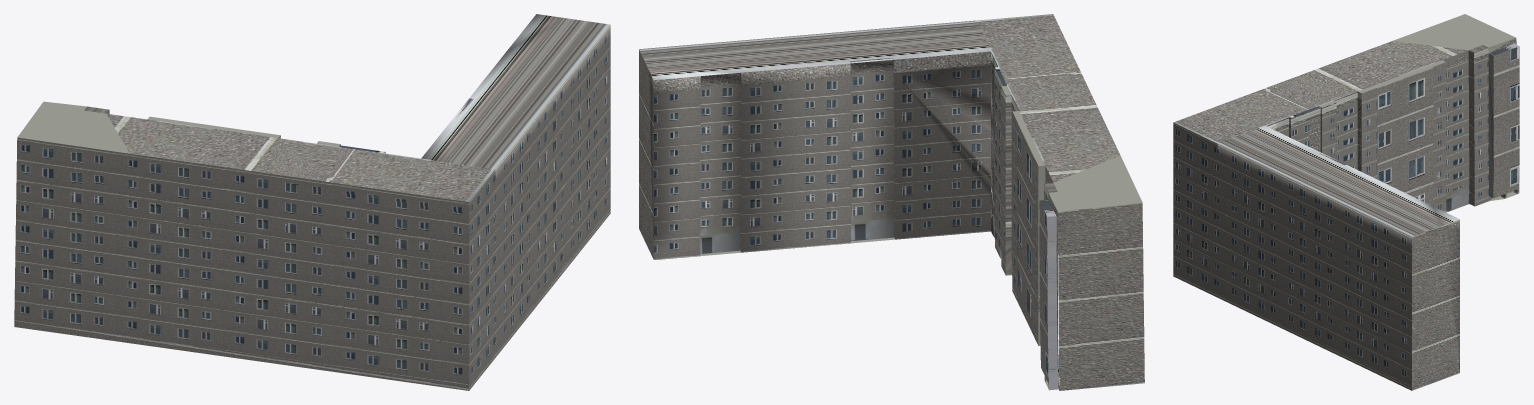
The picture shows the model from 3 angles, left to right: view 1: azimuth 30°, elevation 25°; view 2: azimuth 150°, elevation 25°; view 3: azimuth 270°, elevation 25°; orthographic projection. The views are drawn at different scales.
Visible parts, largest first — view 1: Areas:building_002; view 2: Areas:building_002; view 3: Areas:building_002.
Part boxes in pixels (left/top/right/bottom): Areas:building_002: left=14, top=14, right=610, bottom=390; Areas:building_002: left=639, top=14, right=1144, bottom=390; Areas:building_002: left=1173, top=14, right=1519, bottom=390.
Size of the model in its own units: 11022 by 3531 by 7202.
Materials: 5 (5 with a texture image).
